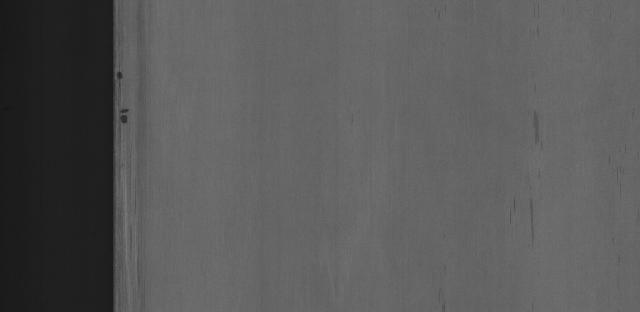oil_spot: (116, 104, 133, 133), (114, 67, 127, 83)
water_spot: (524, 99, 547, 244)
